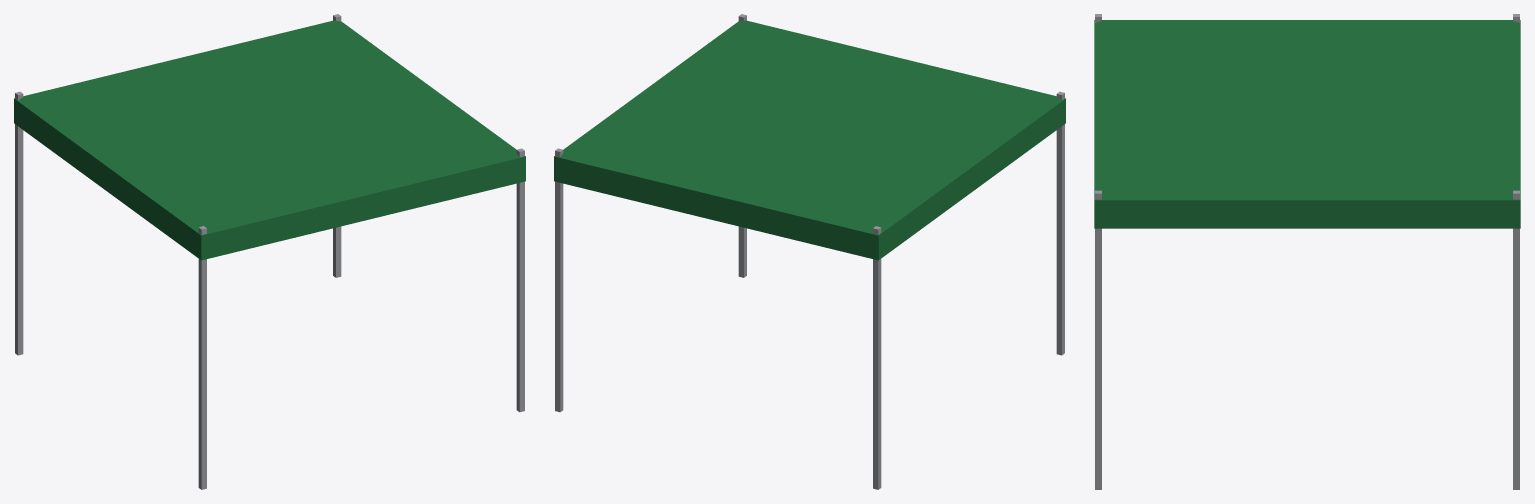
The model's file is canopy_green.dae.
3 renders of one model, left to right at view 1: azimuth 30°, elevation 25°; view 2: azimuth 150°, elevation 25°; view 3: azimuth 270°, elevation 25°, orthographic. The views are drawn at different scales.
Visible parts, largest first — view 1: marker; view 2: marker; view 3: marker.
Boxes of the visible parts, bbox=[...] form: marker: bbox=[14, 14, 525, 489]; marker: bbox=[554, 14, 1065, 489]; marker: bbox=[1094, 14, 1520, 489].
Size of the model in its own units: 3 by 3 by 2.85.
1 material, 1 textured.
